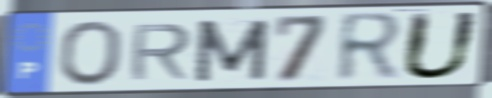7: (272, 14, 332, 85)
M: (192, 17, 273, 84)
O: (56, 18, 126, 88)
R: (334, 10, 408, 86), (127, 21, 195, 83)
U: (398, 10, 484, 82)
